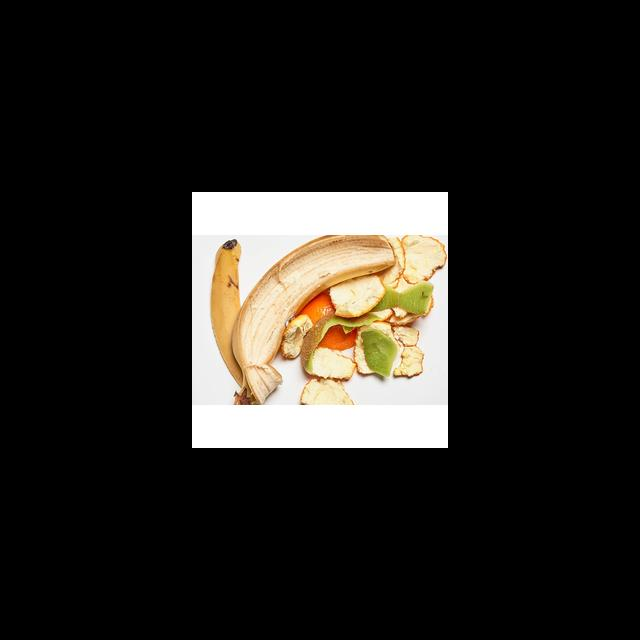food_waste: (201, 234, 392, 407), (295, 305, 383, 380), (351, 324, 410, 375), (322, 273, 384, 316), (398, 233, 448, 284), (391, 321, 428, 386), (297, 371, 365, 405), (387, 278, 440, 317), (281, 317, 322, 367), (361, 330, 400, 380), (382, 224, 412, 284), (312, 345, 362, 378), (302, 294, 340, 327)
